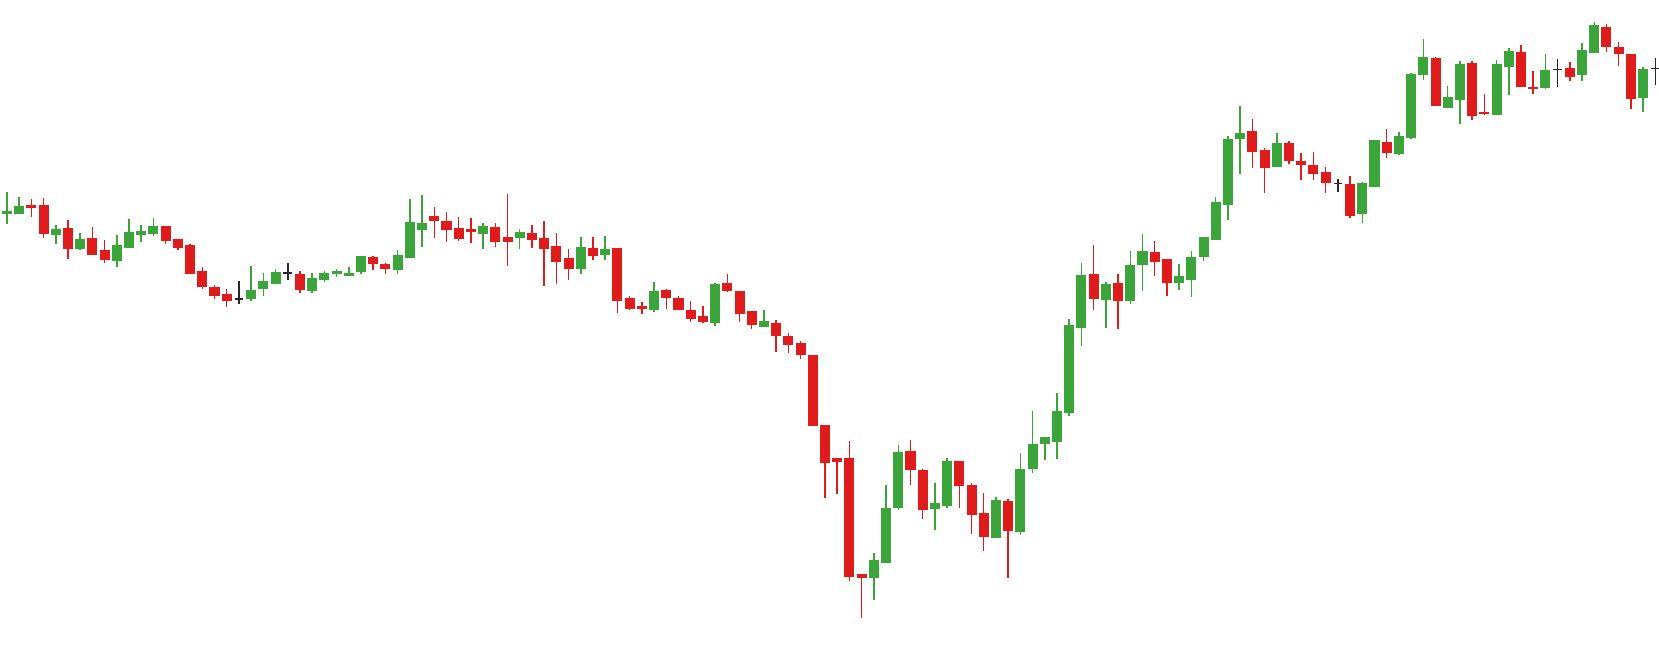buy: (927, 479, 1003, 558)
